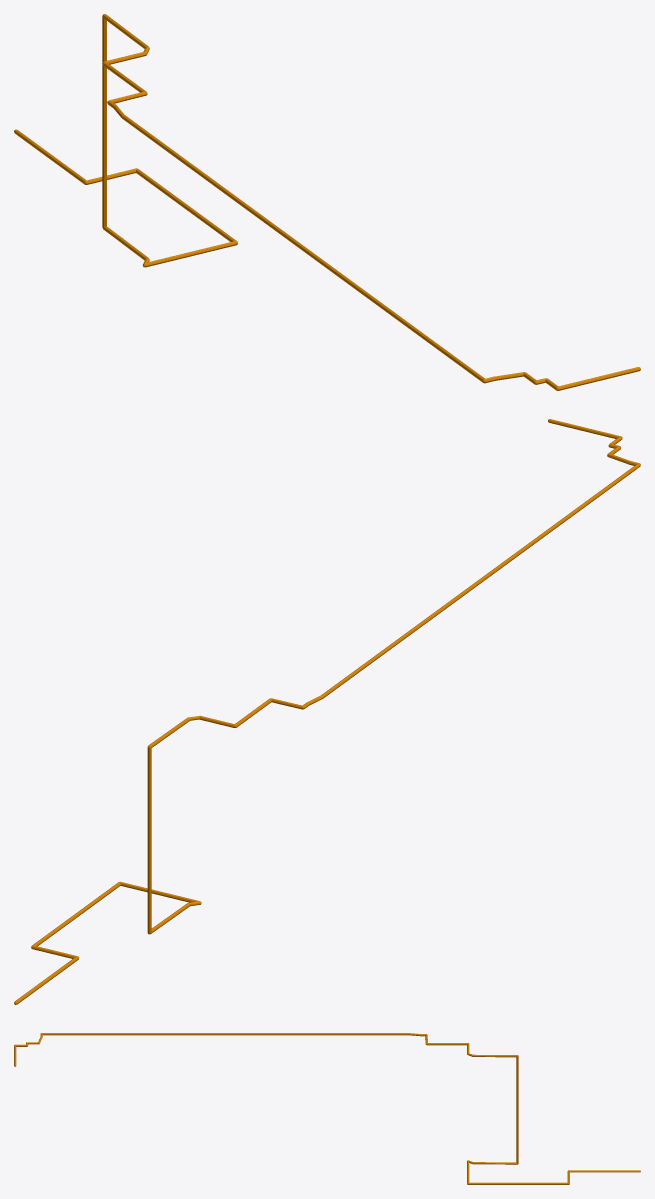
3 renders of one model, top to bottom at view 1: azimuth 30°, elevation 25°; view 2: azimuth 150°, elevation 25°; view 3: azimuth 270°, elevation 25°, orthographic. The views are drawn at different scales.
Bounding box in the file's own units: 869 × 1020 × 5297.
